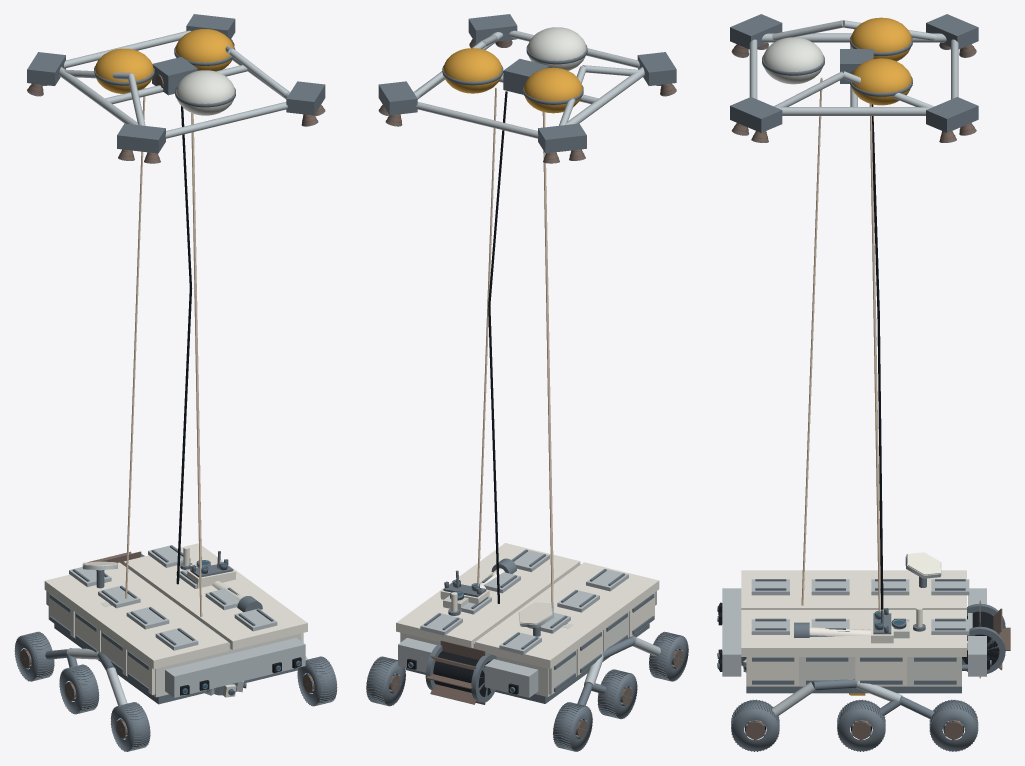
File: perseverance_sky_crane.glb
3 views of the same model, side by side, from view 1: azimuth 30°, elevation 25°; view 2: azimuth 150°, elevation 25°; view 3: azimuth 270°, elevation 25° (orthographic). The views are drawn at different scales.
Visible parts, largest first — view 1: perseverance_body.deck.mesh_Warm_white_enamel, mars_descent_stage.aluminum_frame.mesh_Satin_aluminum, perseverance_body.front_equipment.mesh_Satin_aluminum, perseverance_body.deck.mesh_Satin_aluminum, mars_descent_stage.propellant_tank_03.mesh_Pale_thermal_blan, perseverance_body.mesh_Pale_thermal_blanket, mars_descent_stage.propellant_tank_01.mesh_Gold_thermal_insu, mars_descent_stage.propellant_tank_02.mesh_Gold_thermal_insu, perseverance_body.mesh_Machined_steel, perseverance_mobility.rocker_left.steer_front.wheel_front.ri, perseverance_mobility.rocker_left.bogie.axle_middle.wheel_mi, perseverance_mobility.rocker_right.steer_front.wheel_front.r (+13 smaller); view 2: perseverance_body.deck.mesh_Warm_white_enamel, mars_descent_stage.aluminum_frame.mesh_Satin_aluminum, perseverance_body.deck.mesh_Satin_aluminum, perseverance_body.rear_equipment.mesh_Satin_aluminum, mars_descent_stage.propellant_tank_02.mesh_Gold_thermal_insu, mars_descent_stage.propellant_tank_01.mesh_Gold_thermal_insu, mars_descent_stage.propellant_tank_03.mesh_Pale_thermal_blan, perseverance_body.mesh_Pale_thermal_blanket, mars_descent_stage.umbilical.mesh_Shadowed_interior, perseverance_power_comms.mmrtg.mesh_Heat-stained_alloy, perseverance_mobility.rocker_left.bogie.steer_rear.wheel_rea, perseverance_mobility.rocker_right.bogie.steer_rear.wheel_re (+16 smaller); view 3: perseverance_body.deck.mesh_Warm_white_enamel, mars_descent_stage.aluminum_frame.mesh_Satin_aluminum, perseverance_body.deck.mesh_Satin_aluminum, perseverance_body.mesh_Pale_thermal_blanket, perseverance_body.mesh_Machined_steel, perseverance_body.mesh_Warm_white_enamel, mars_descent_stage.propellant_tank_03.mesh_Pale_thermal_blan, mars_descent_stage.propellant_tank_02.mesh_Gold_thermal_insu, mars_descent_stage.propellant_tank_01.mesh_Gold_thermal_insu, perseverance_mobility.rocker_right.bogie.axle_middle.wheel_m, perseverance_mobility.rocker_right.steer_front.wheel_front.r, perseverance_body.front_equipment.mesh_Satin_aluminum (+16 smaller).
Boxes of the visible parts, x1,y1,x2,y2 form: perseverance_body.deck.mesh_Warm_white_enamel: (44,543,307,669); mars_descent_stage.aluminum_frame.mesh_Satin_aluminum: (59,30,290,138); perseverance_body.front_equipment.mesh_Satin_aluminum: (165,638,305,697); perseverance_body.deck.mesh_Satin_aluminum: (69,545,277,650); mars_descent_stage.propellant_tank_03.mesh_Pale_thermal_blan: (176,70,234,115); perseverance_body.mesh_Pale_thermal_blanket: (48,593,300,697); mars_descent_stage.propellant_tank_01.mesh_Gold_thermal_insu: (95,48,153,93); mars_descent_stage.propellant_tank_02.mesh_Gold_thermal_insu: (175,29,233,71); perseverance_body.mesh_Machined_steel: (49,594,298,704); perseverance_mobility.rocker_left.steer_front.wheel_front.ri: (110,702,150,751); perseverance_mobility.rocker_left.bogie.axle_middle.wheel_mi: (59,664,99,714); perseverance_mobility.rocker_right.steer_front.wheel_front.r: (297,656,337,706); perseverance_body.deck.mesh_Warm_white_enamel: (396,543,659,668); mars_descent_stage.aluminum_frame.mesh_Satin_aluminum: (413,30,644,138); perseverance_body.deck.mesh_Satin_aluminum: (420,549,628,654); perseverance_body.rear_equipment.mesh_Satin_aluminum: (398,638,538,697); mars_descent_stage.propellant_tank_02.mesh_Gold_thermal_insu: (443,48,502,93); mars_descent_stage.propellant_tank_01.mesh_Gold_thermal_insu: (524,67,582,113); mars_descent_stage.propellant_tank_03.mesh_Pale_thermal_blan: (527,27,586,70); perseverance_body.mesh_Pale_thermal_blanket: (400,611,628,696); mars_descent_stage.umbilical.mesh_Shadowed_interior: (488,91,507,603); perseverance_power_comms.mmrtg.mesh_Heat-stained_alloy: (426,640,486,704); perseverance_mobility.rocker_left.bogie.steer_rear.wheel_rea: (553,702,592,751); perseverance_mobility.rocker_right.bogie.steer_rear.wheel_re: (366,656,405,706); perseverance_body.deck.mesh_Warm_white_enamel: (741,570,966,656); mars_descent_stage.aluminum_frame.mesh_Satin_aluminum: (749,20,958,115); perseverance_body.deck.mesh_Satin_aluminum: (751,579,969,635); perseverance_body.mesh_Pale_thermal_blanket: (746,657,961,686); perseverance_body.mesh_Machined_steel: (746,657,961,693); perseverance_body.mesh_Warm_white_enamel: (747,657,906,685); mars_descent_stage.propellant_tank_03.mesh_Pale_thermal_blan: (763,37,823,84); mars_descent_stage.propellant_tank_02.mesh_Gold_thermal_insu: (851,58,911,105); mars_descent_stage.propellant_tank_01.mesh_Gold_thermal_insu: (851,17,911,61); perseverance_mobility.rocker_right.bogie.axle_middle.wheel_m: (837,699,885,751); perseverance_mobility.rocker_right.steer_front.wheel_front.r: (731,699,779,751); perseverance_body.front_equipment.mesh_Satin_aluminum: (722,588,741,676).
Bounding box in the file's own units: 2.74 × 8.03 × 3.24.
